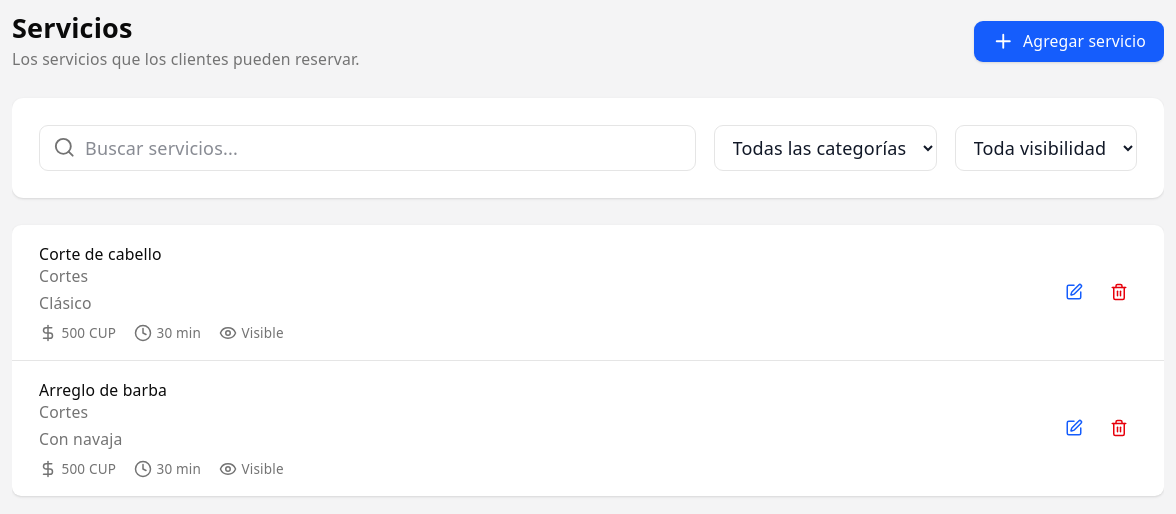
Test: Servicios › la búsqueda filtra por nombre o descripción
This screenshot has width=1176, height=514.
Expected: the text "Corte de cabello" is shown, [39,243,162,265]
Step 1. Type "navaja" into the field with placeholder "Buscar servicios..." → [368, 148], box [39,124,696,171]
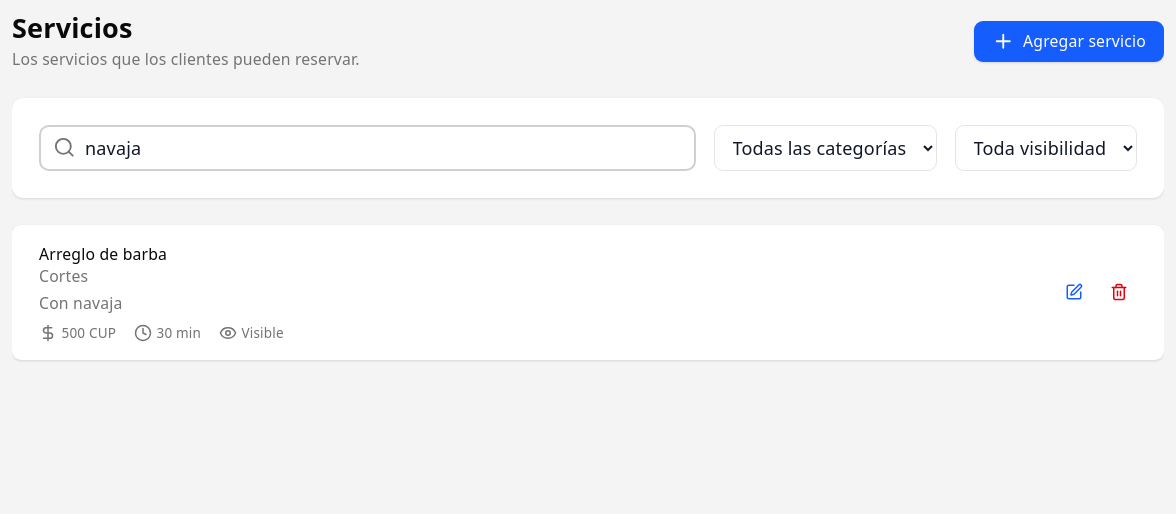
Expected: the text "Arreglo de barba" is shown, [39,243,167,265]
Now the text "Corte de cabello" is gone
